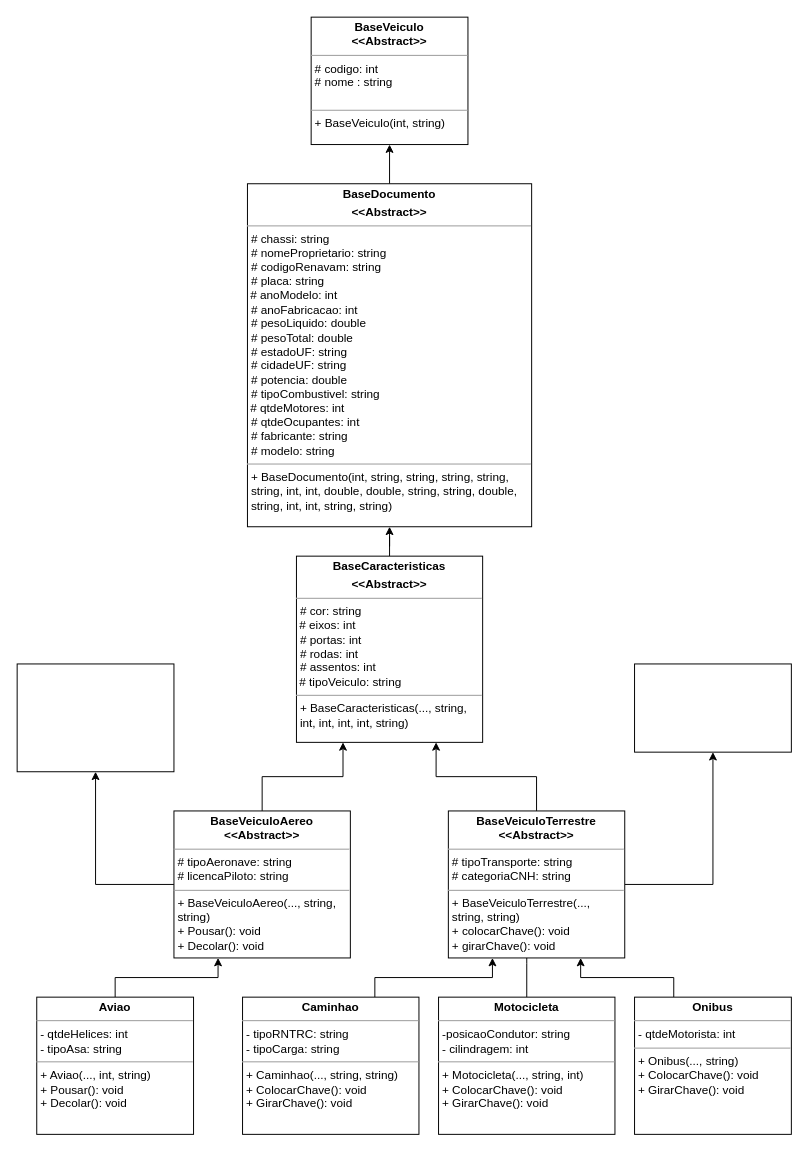
The diagram is 809 pixels wide and 1152 high, and some of its shapes have lost their labels. The centre of each missing label's shape, as x and y in pixels:
ILocomocaoAereo <<Interface>> + Pousar(): void + Decolar(): void: point (95, 717)
IPartida <<Interface>> + colocarChave(): void + girarChave(): void: point (712, 707)
